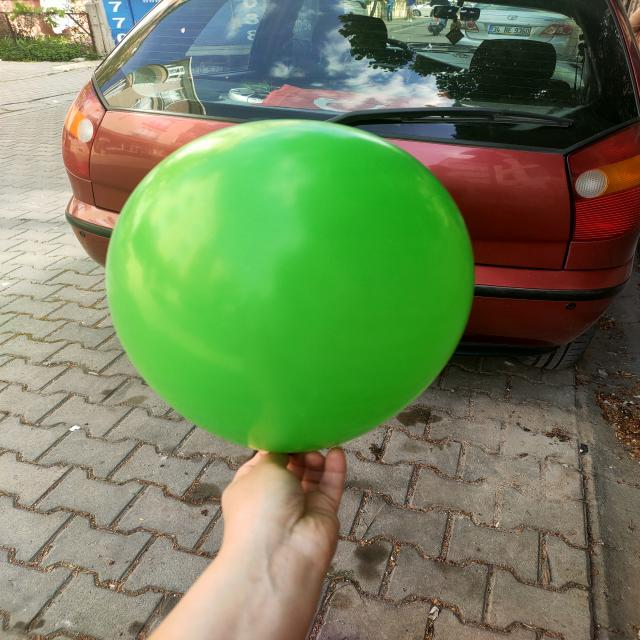green: (108, 122, 475, 453)
